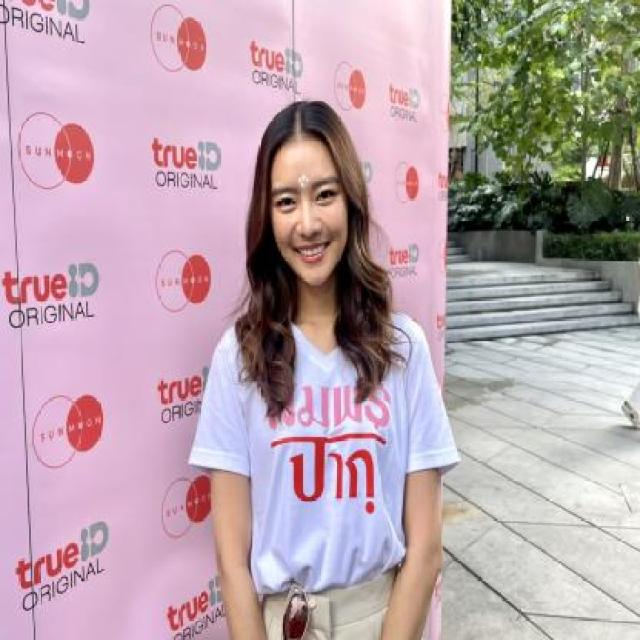sem_oculos: (259, 181, 374, 215)
